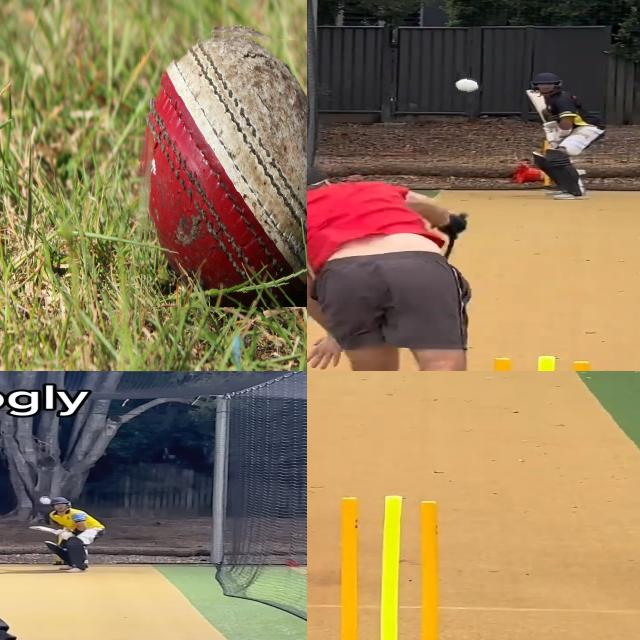Cricket ball: (138, 24, 307, 306), (452, 74, 482, 94), (38, 496, 52, 504)
Stumps: (321, 495, 457, 640)
